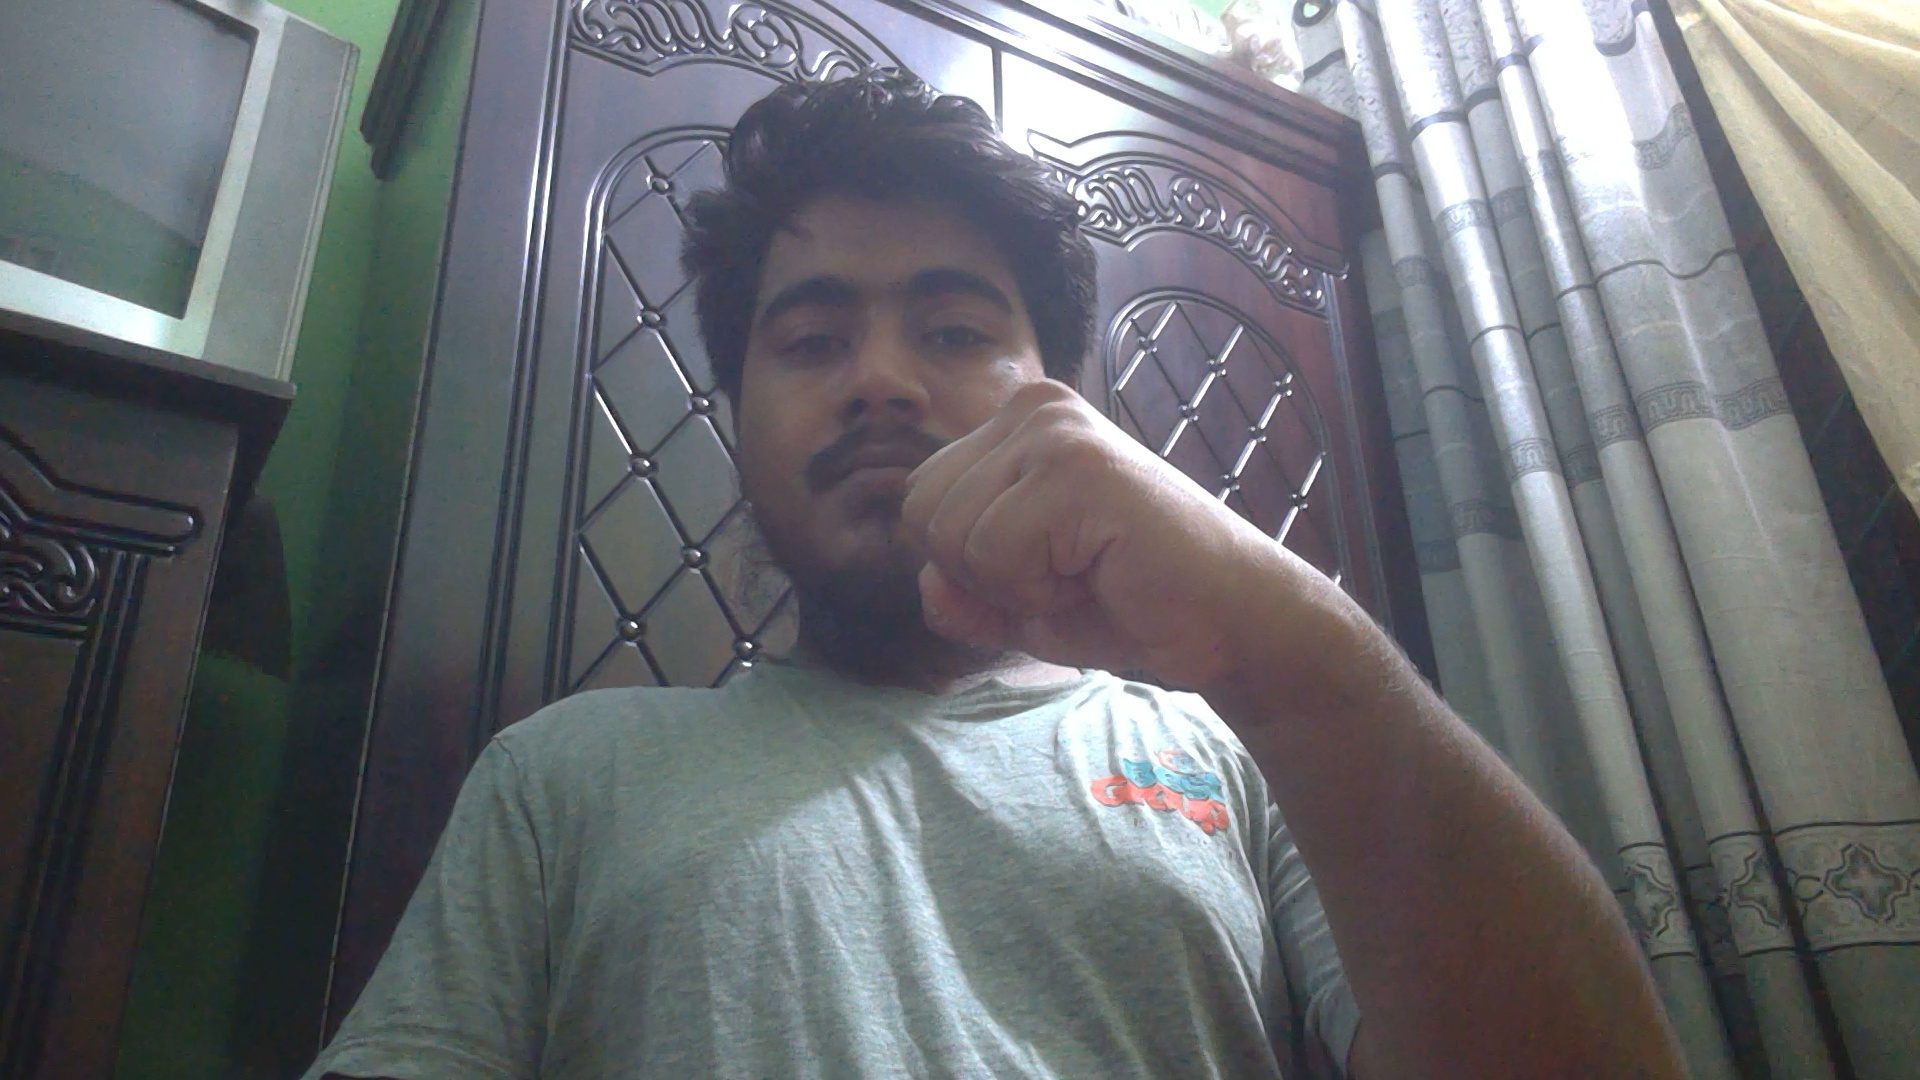yes: (894, 371, 1338, 717)
